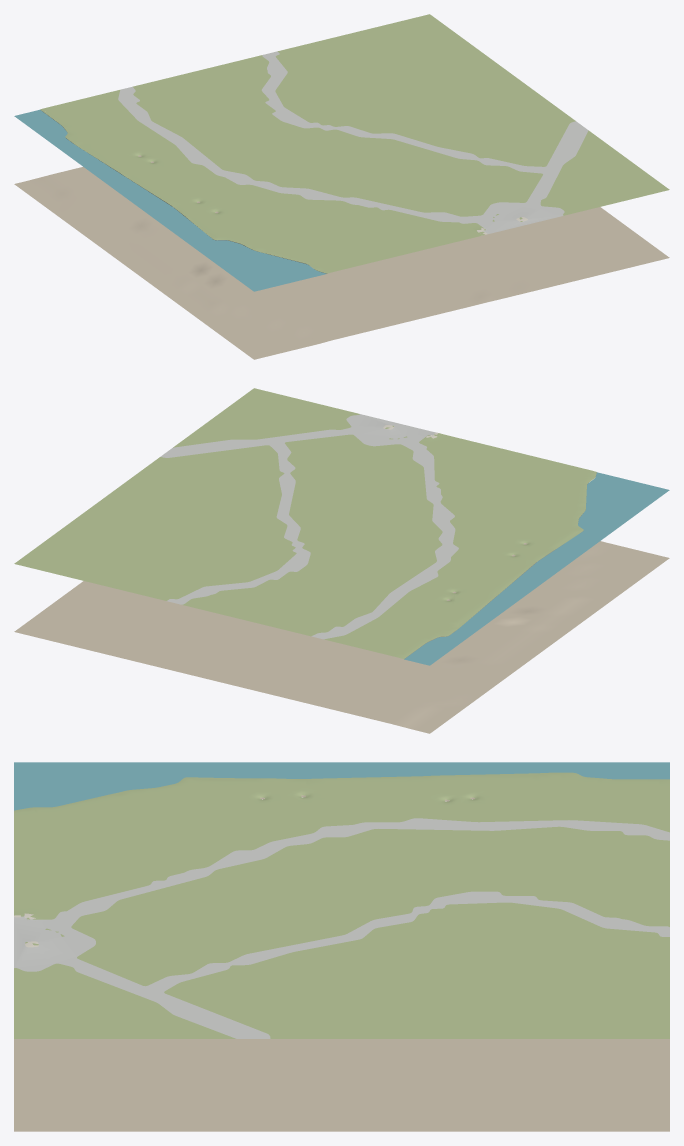
3 renders of one model, top to bottom at view 1: azimuth 30°, elevation 25°; view 2: azimuth 150°, elevation 25°; view 3: azimuth 270°, elevation 25°, orthographic. The views are drawn at different scales.
Parts seen in each view (by area): view 1: s_-12_5__grass, s_-12_5__soil, s_-12_5__stone_paving, s_-12_5__water; view 2: s_-12_5__grass, s_-12_5__soil, s_-12_5__stone_paving, s_-12_5__water; view 3: s_-12_5__grass, s_-12_5__soil, s_-12_5__stone_paving, s_-12_5__water.
Part boxes in pixels (box(x1,y1,x2,y2)): s_-12_5__grass: box(40, 14, 669, 273); s_-12_5__soil: box(14, 155, 669, 359); s_-12_5__stone_paving: box(118, 51, 588, 234); s_-12_5__water: box(14, 109, 326, 291); s_-12_5__grass: box(14, 388, 596, 658); s_-12_5__soil: box(14, 541, 669, 733); s_-12_5__stone_paving: box(160, 414, 458, 639); s_-12_5__water: box(404, 472, 669, 665); s_-12_5__grass: box(14, 772, 669, 1038); s_-12_5__soil: box(14, 795, 669, 1131); s_-12_5__stone_paving: box(14, 818, 669, 1038); s_-12_5__water: box(14, 762, 669, 810).
Bounding box in the file's own units: 128 × 20.29 × 128.
